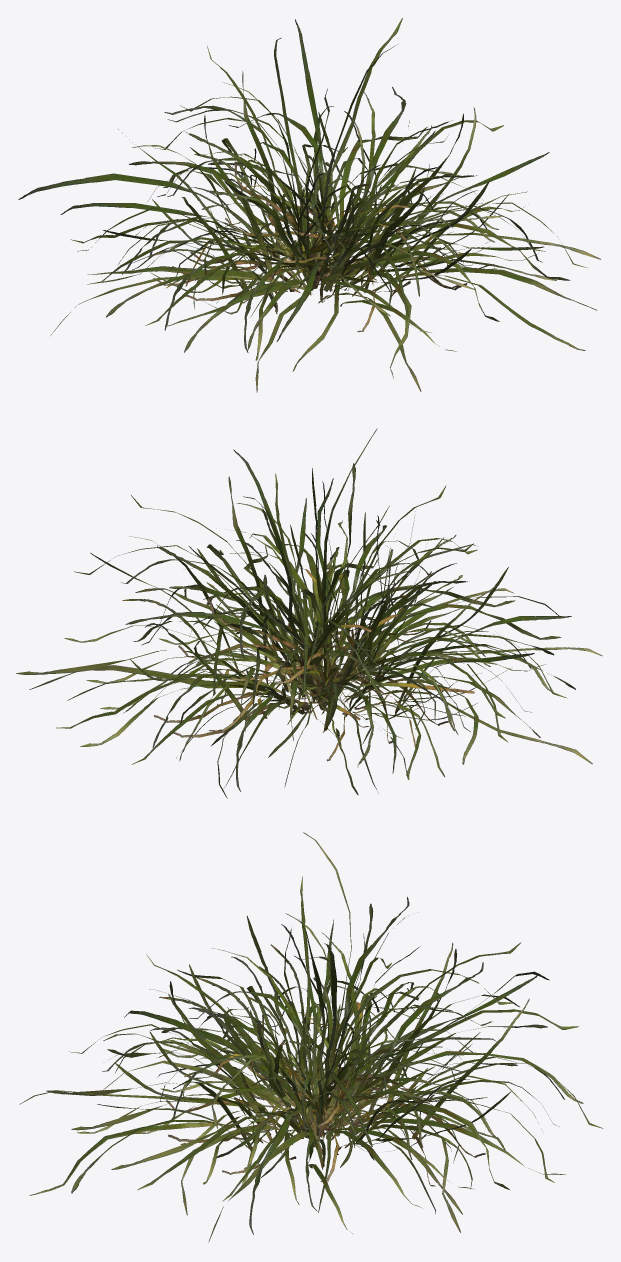
Rendered from grass-medium-01-large-b.glb.
3 renders of one model, top to bottom at view 1: azimuth 30°, elevation 25°; view 2: azimuth 150°, elevation 25°; view 3: azimuth 270°, elevation 25°, orthographic. The views are drawn at different scales.
Parts seen in each view (by area): view 1: grass_medium_01_large_b; view 2: grass_medium_01_large_b; view 3: grass_medium_01_large_b.
Part boxes in pixels (left/top/right/bottom): grass_medium_01_large_b: left=18, top=18, right=600, bottom=392; grass_medium_01_large_b: left=16, top=428, right=602, bottom=798; grass_medium_01_large_b: left=19, top=832, right=603, bottom=1242.
Size of the model in its own units: 0.2841 by 0.1693 by 0.2757.
1 material, 1 textured.
